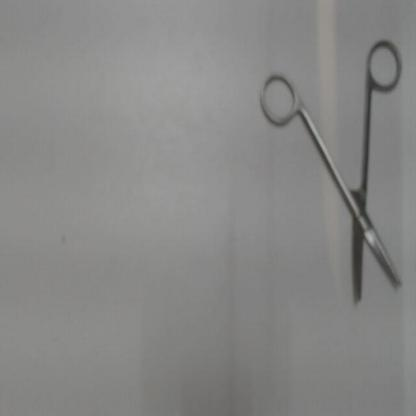Curved Mayo Scissors: (254, 34, 406, 314)
